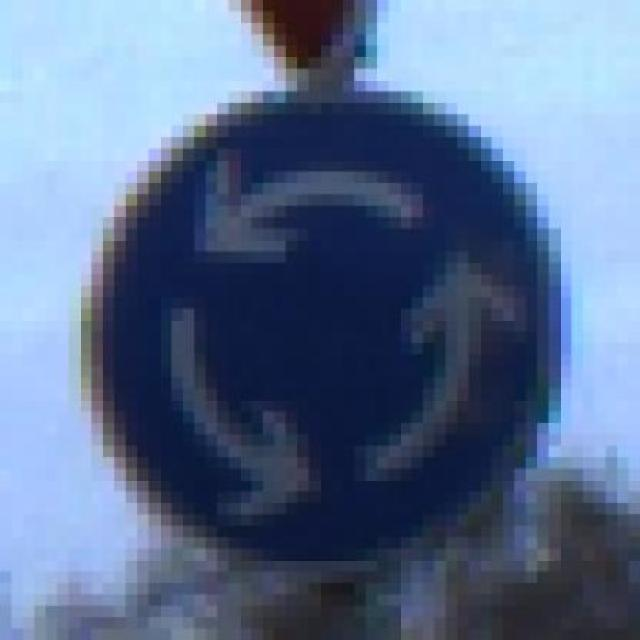Round-About: (57, 68, 583, 583)
